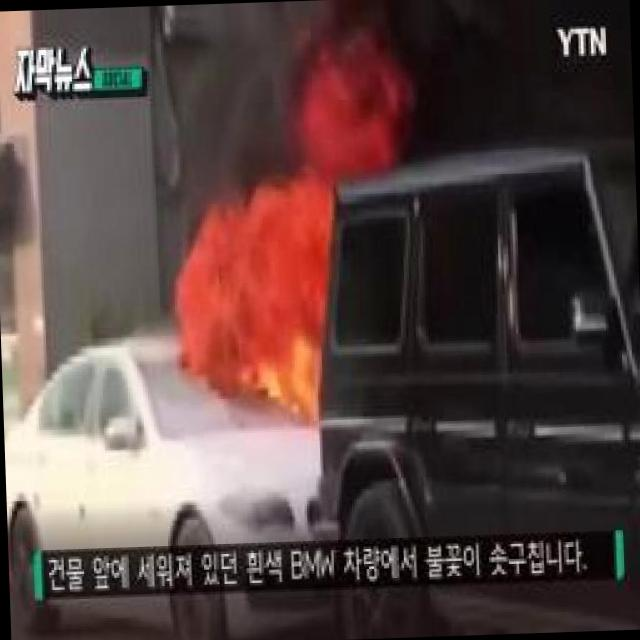Fire: (173, 113, 410, 407)
